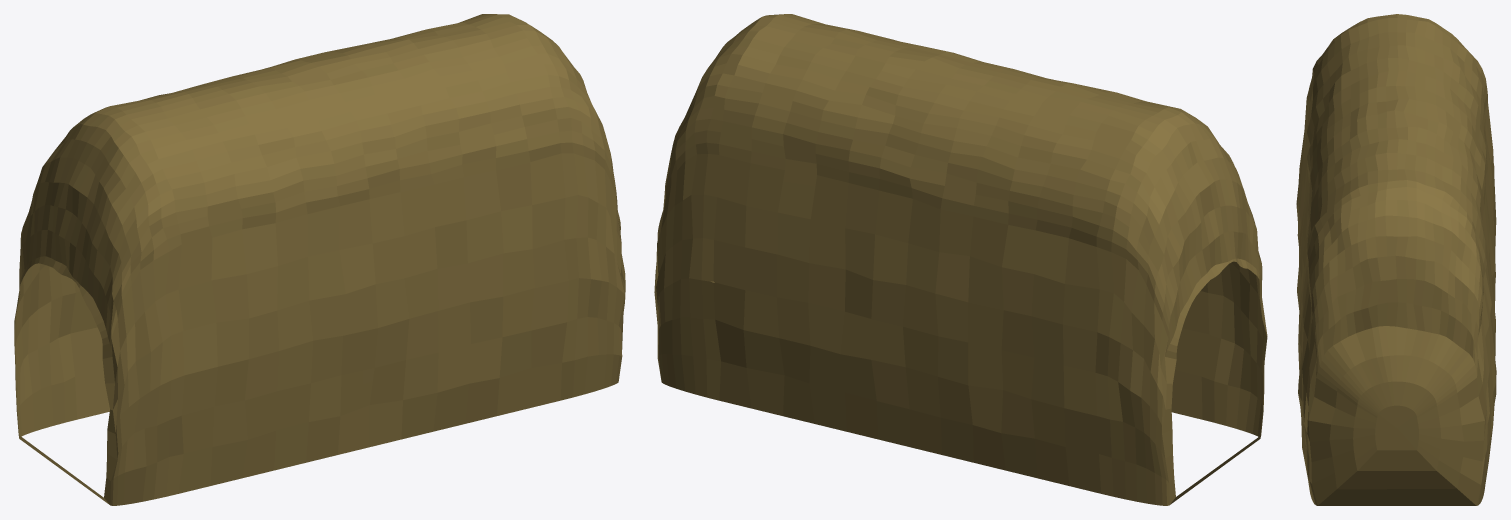
File: pole_seno.glb
3 views of the same model, side by side, from view 1: azimuth 30°, elevation 25°; view 2: azimuth 150°, elevation 25°; view 3: azimuth 270°, elevation 25° (orthographic). The views are drawn at different scales.
Parts seen in each view (by area): view 1: seno_seno.001; view 2: seno_seno.001; view 3: seno_seno.001.
Part boxes in pixels (x1,y1,x2,y2): seno_seno.001: (14, 14, 625, 505); seno_seno.001: (654, 14, 1267, 505); seno_seno.001: (1296, 14, 1496, 505).
Bounding box in the file's own units: 6.82 × 4.16 × 2.51.
Materials: 1 (1 with a texture image).
